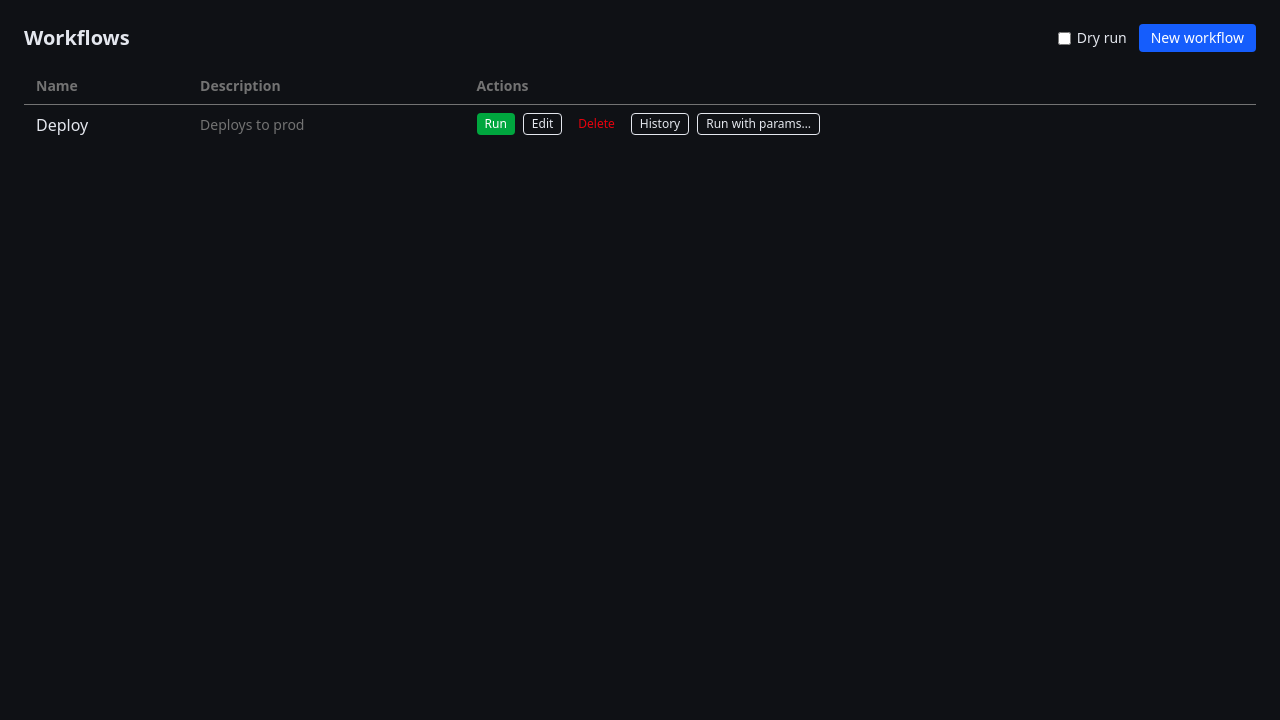
Test: Workflows page — step-list editor › edit dialog pre-populates steps from the existing workflow
The image size is (1280, 720).
Expected: the text "Deploy" is shown, [24,104,188,145]
Click the button with aria-label "edit workflow Deploy" at (543, 124), box [523,113,562,135]
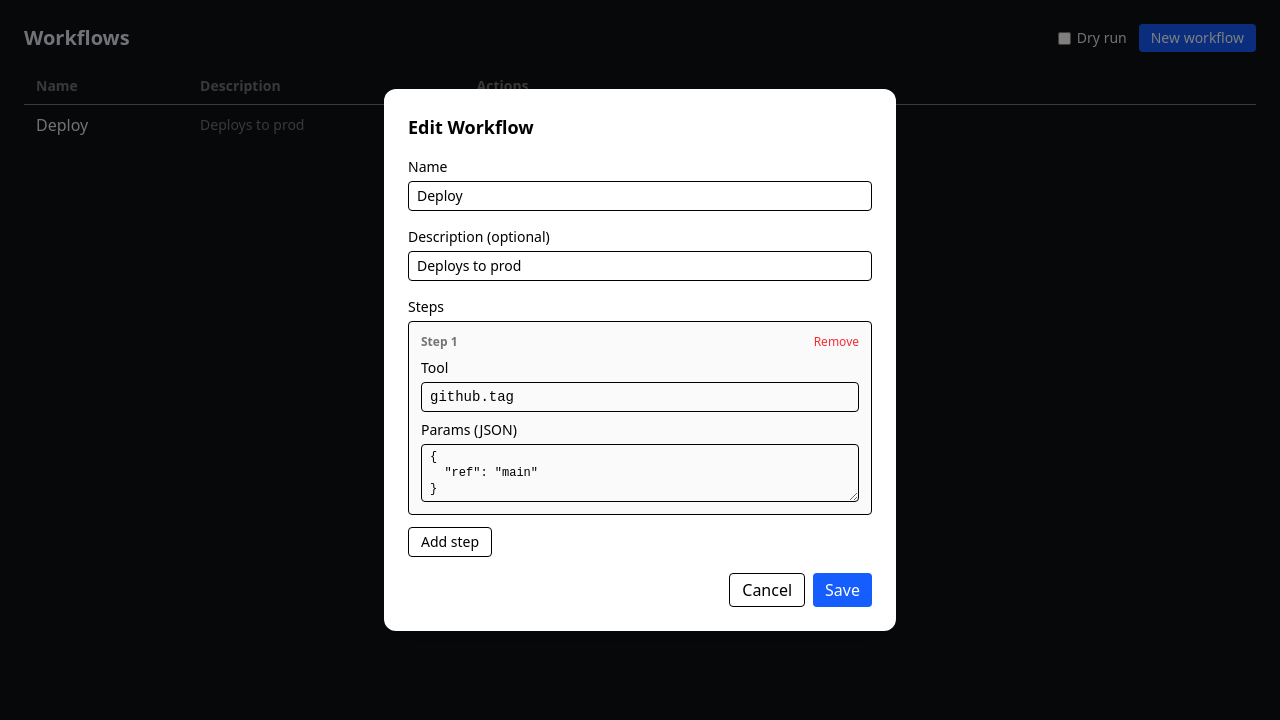
Expected: the dialog is shown
Expected: the field named "Step 1 tool" holds "github.tag", [421,382,859,412]
